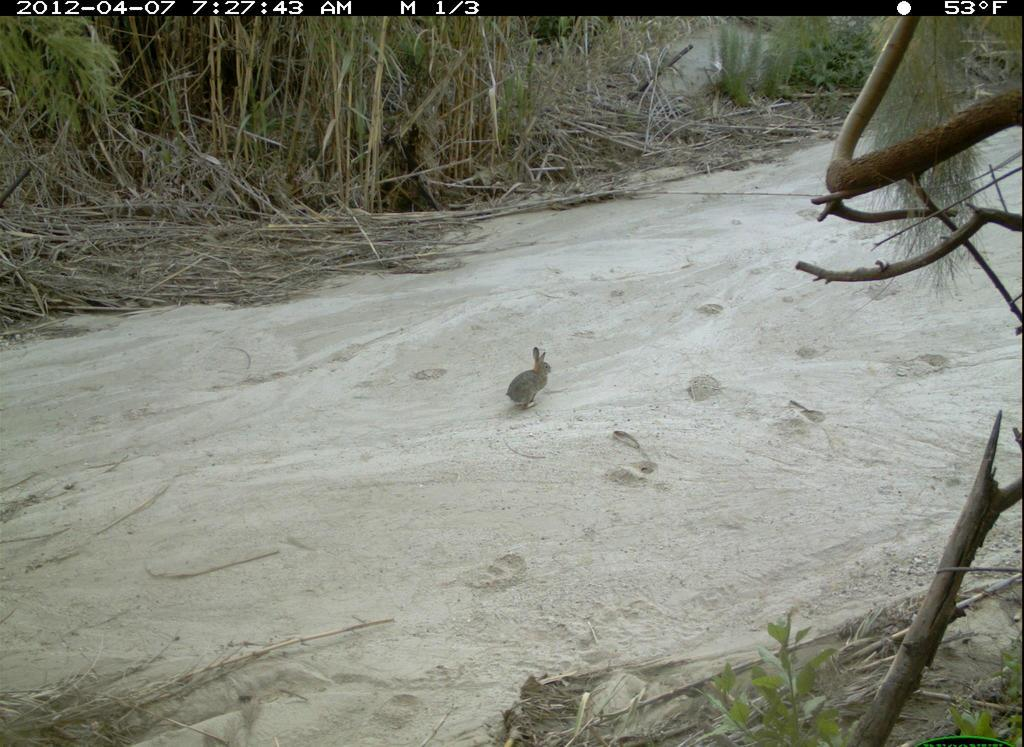rabbit: (496, 340, 561, 422)
